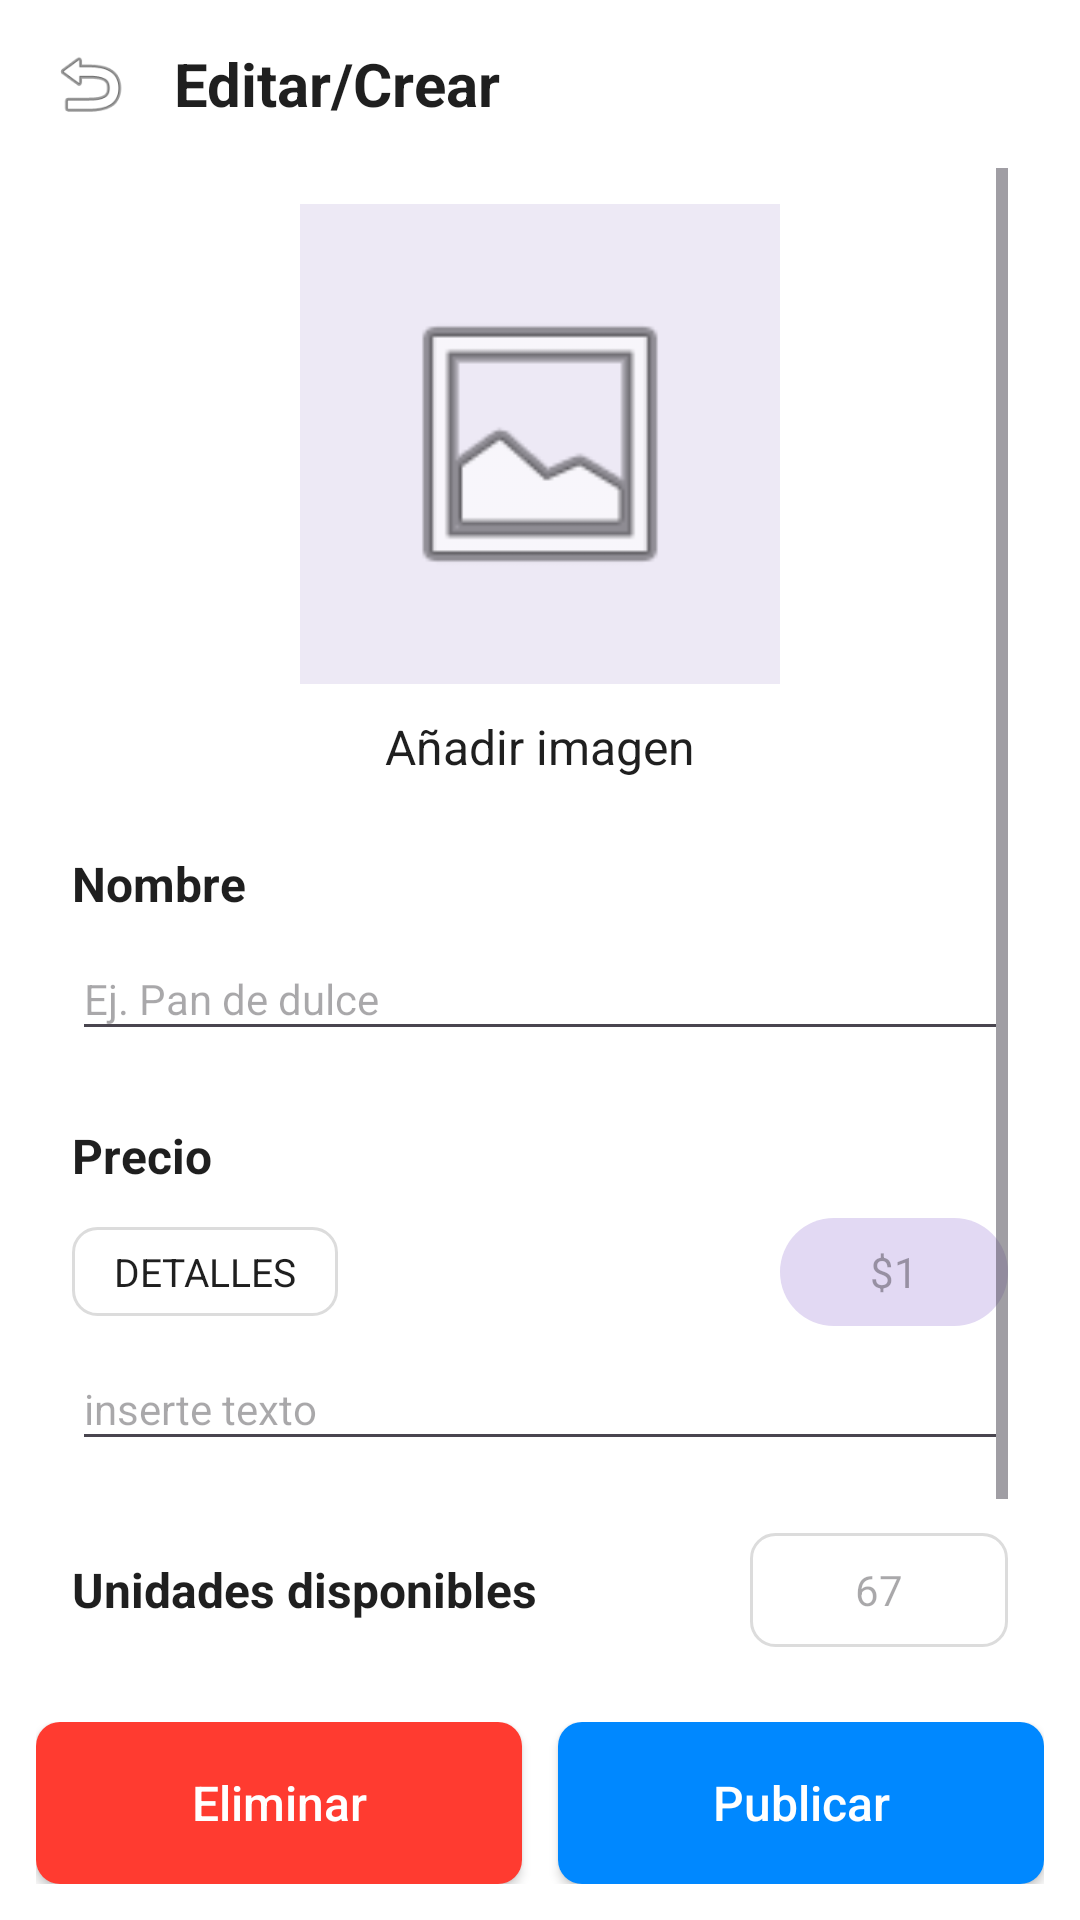

Where icons sit on this 1080x1920 app screen, as (left=x1, top=y1, right=x2, bottom=y2):
revert: (left=61, top=57, right=122, bottom=112)
